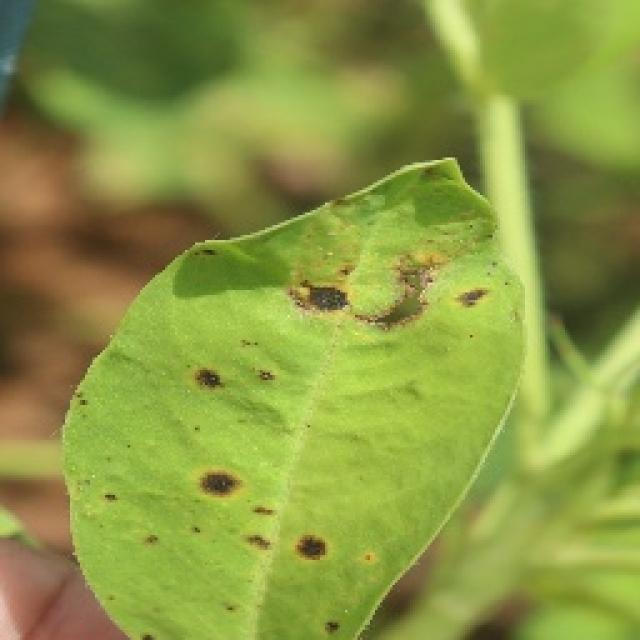Yellowish: (63, 143, 540, 640)
